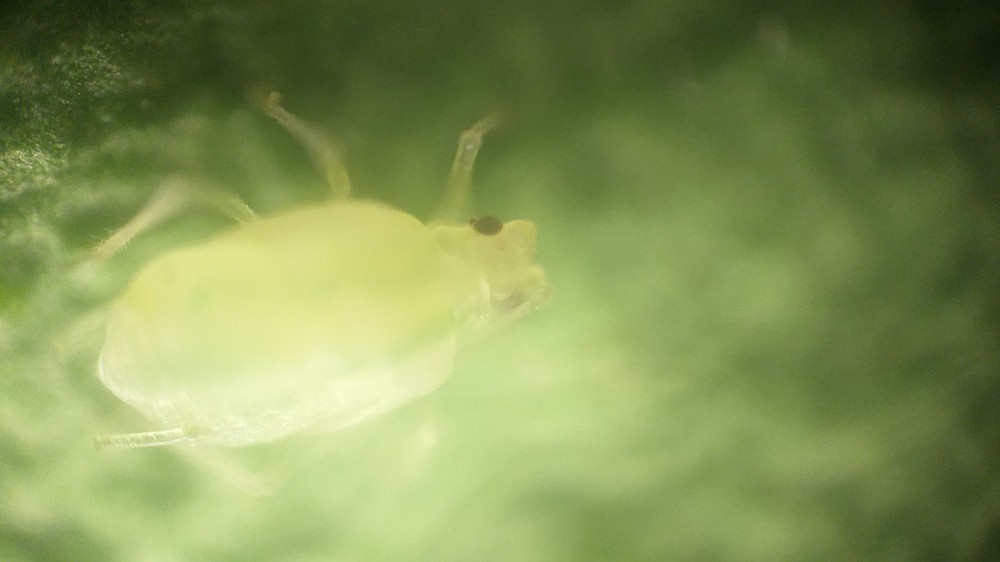Pulgon: (60, 93, 583, 525)
